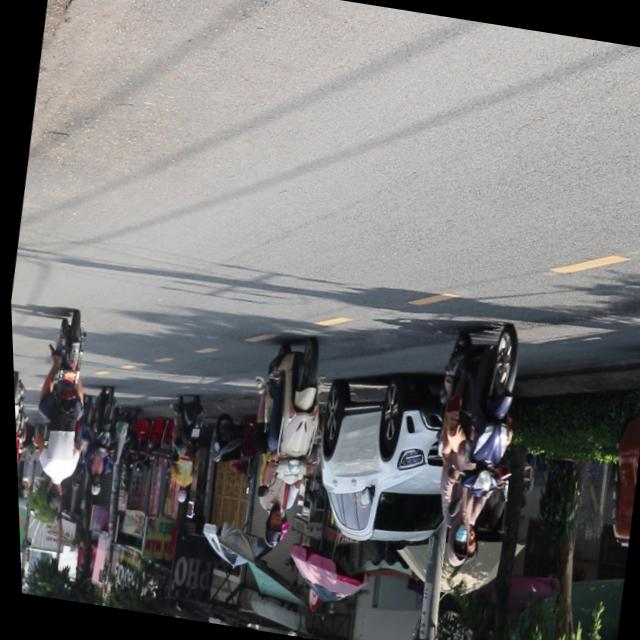helmet: (438, 521, 471, 569), (257, 508, 283, 550)
licenseplate: (406, 314, 534, 576), (228, 330, 333, 554), (15, 306, 101, 514)
motorcyclist: (457, 524, 478, 564), (39, 479, 61, 511)
